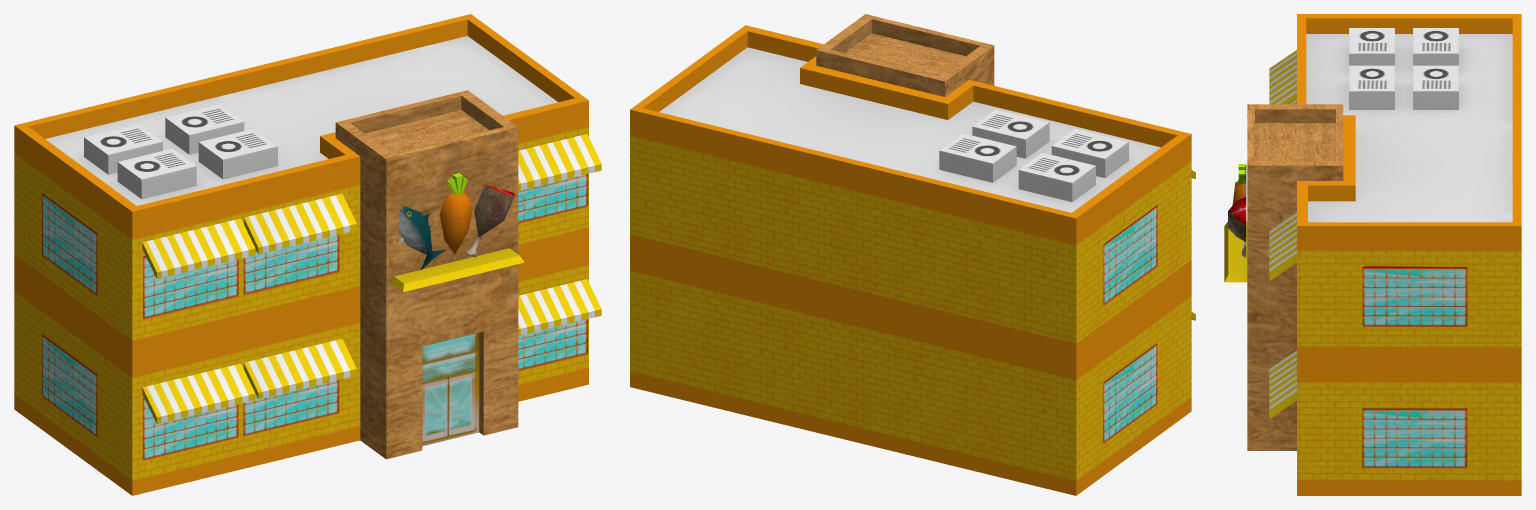
The model's file is market.fbx.
3 views of the same model, side by side, from view 1: azimuth 30°, elevation 25°; view 2: azimuth 150°, elevation 25°; view 3: azimuth 270°, elevation 25° (orthographic). The views are drawn at different scales.
Parts seen in each view (by area): view 1: polySurface99; view 2: polySurface99; view 3: polySurface99.
Part boxes in pixels (box(x1,y1,x2,y2)): polySurface99: box(14, 14, 601, 495); polySurface99: box(630, 14, 1195, 495); polySurface99: box(1224, 14, 1521, 495).
Size of the model in its own units: 9.29 by 5.83 by 5.51.
